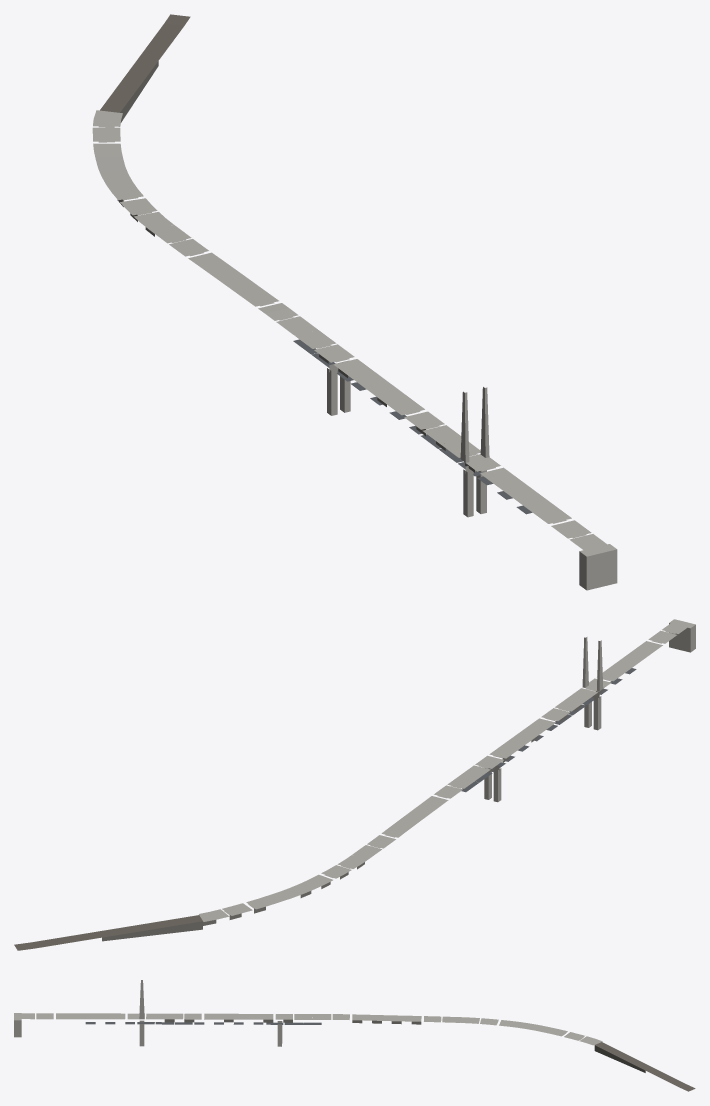
The model's file is br_r14_tawatina_lod3.gltf.
3 renders of one model, top to bottom at view 1: azimuth 30°, elevation 25°; view 2: azimuth 150°, elevation 25°; view 3: azimuth 270°, elevation 25°, orthographic. The views are drawn at different scales.
Visible parts, largest first — view 1: br_r14_tawatina_lod3; view 2: br_r14_tawatina_lod3; view 3: br_r14_tawatina_lod3.
Part boxes in pixels (x1=…): br_r14_tawatina_lod3: x1=92, y1=14, x2=617, y2=590; br_r14_tawatina_lod3: x1=14, y1=619, x2=695, y2=950; br_r14_tawatina_lod3: x1=14, y1=980, x2=695, y2=1091.
Bounding box in the file's own units: 128 × 54.6 × 544.
